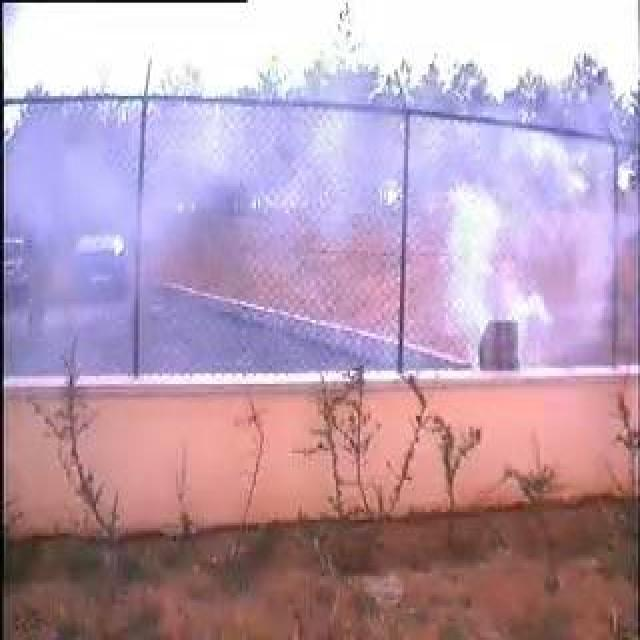Smoke: (25, 112, 571, 368)
